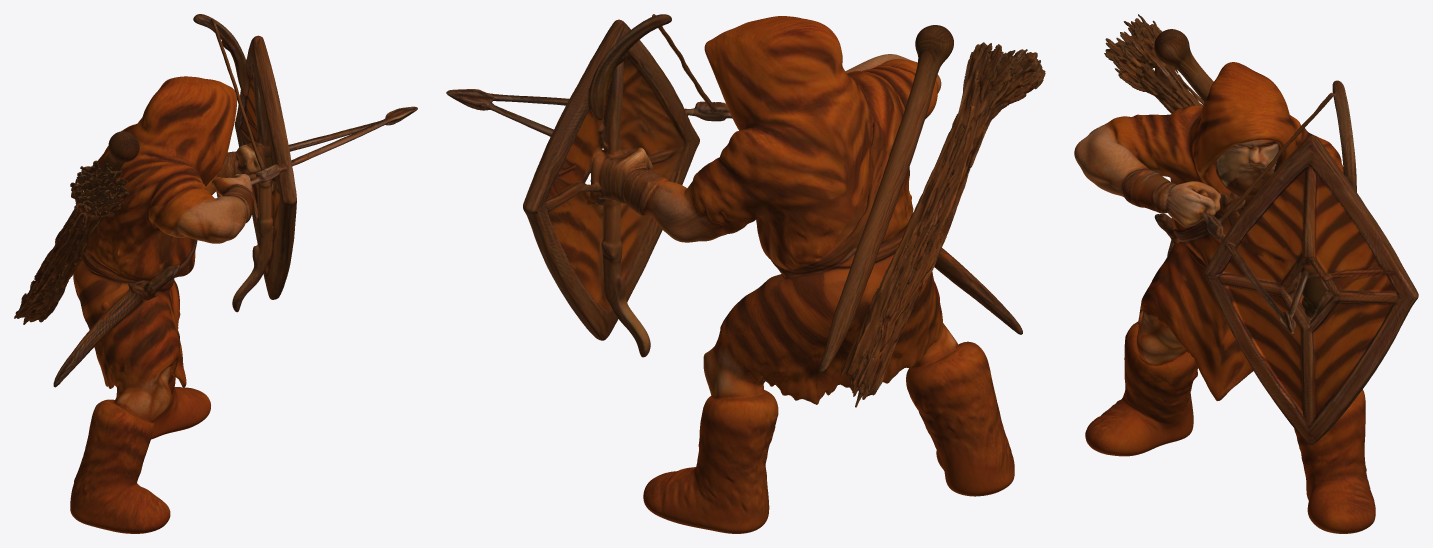
3 views of the same model, side by side, from view 1: azimuth 30°, elevation 25°; view 2: azimuth 150°, elevation 25°; view 3: azimuth 270°, elevation 25° (orthographic). The views are drawn at different scales.
Visible parts, largest first — view 1: tripo_node_057dafc9-e983-496e-8edc-65809052647b; view 2: tripo_node_057dafc9-e983-496e-8edc-65809052647b; view 3: tripo_node_057dafc9-e983-496e-8edc-65809052647b.
Part boxes in pixels (bbox=[...]): tripo_node_057dafc9-e983-496e-8edc-65809052647b: bbox=[14, 14, 417, 533]; tripo_node_057dafc9-e983-496e-8edc-65809052647b: bbox=[446, 14, 1045, 533]; tripo_node_057dafc9-e983-496e-8edc-65809052647b: bbox=[1074, 14, 1418, 533].
Size of the model in its own units: 1 by 0.9255 by 0.633.
Materials: 1 (1 with a texture image).
